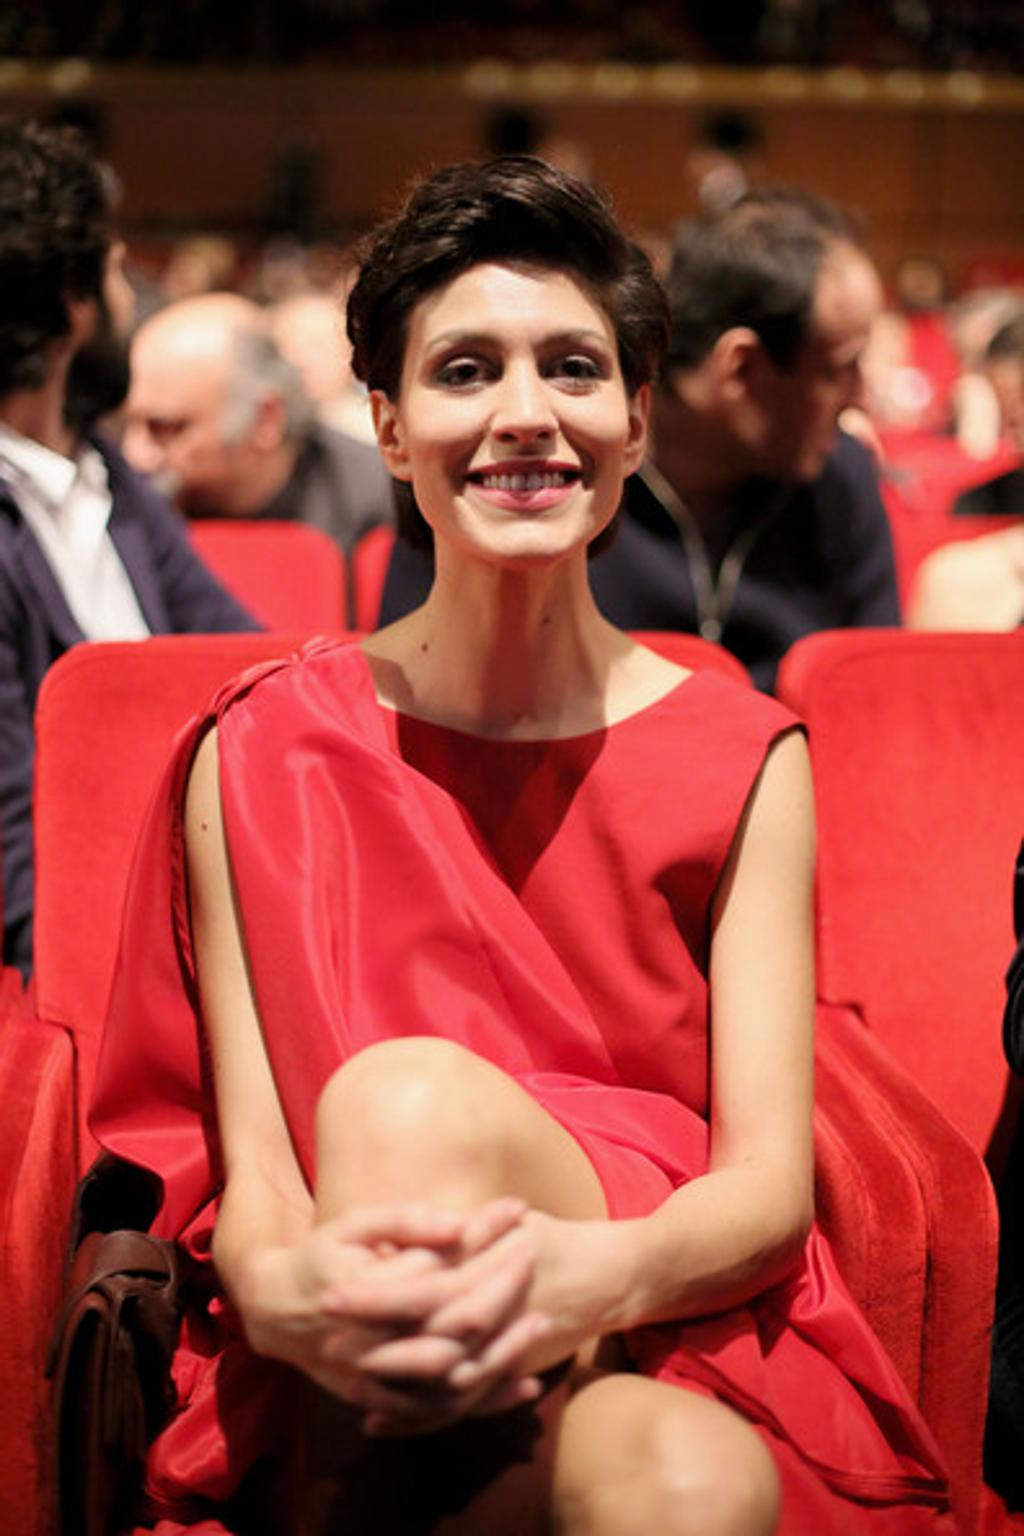face: (399, 243, 630, 564), (760, 264, 874, 477), (120, 342, 252, 522)
